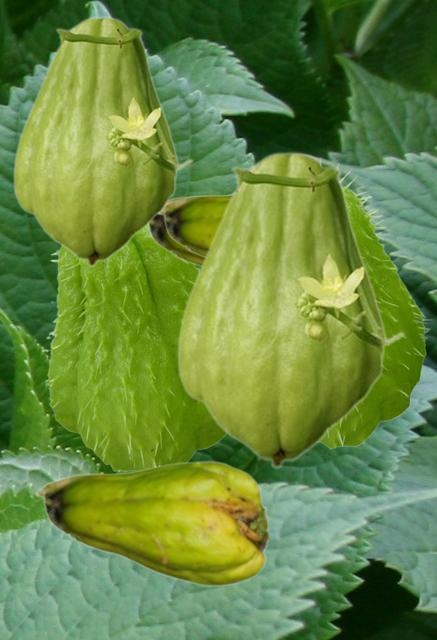sayote: (176, 151, 405, 468), (12, 16, 193, 266), (41, 228, 225, 471), (319, 157, 431, 448), (34, 460, 267, 586), (147, 193, 229, 266), (159, 194, 229, 257)
